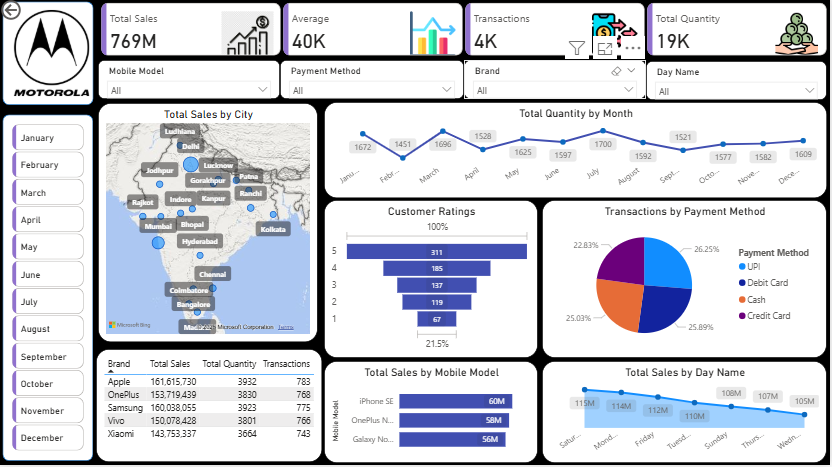

What the dashboard file says about the page in this screenshot:
{"tool":"powerbi","page":{"name":"Page 1","canvas":[1280,720],"ordinal":0},"visuals":[{"type":"shape","box":[0,0,153.7,173.1],"z":0},{"type":"image","box":[0,7.5,164.2,156.7],"z":1000},{"type":"shape","box":[0,173.3,153.3,546.7],"z":2000},{"type":"advancedSlicerVisual","fields":{"Values":["Sales_Data.Date.Variation.Date Hierarchy.Month"]},"box":[16.7,190,120,513.3],"z":3000},{"type":"cardVisual","fields":{"Data":["Sales_Data.Total Sales","Sales_Data.Average","Sales_Data.Transactions","Sales_Data.Total Quantity"]},"box":[153.8,0,1126.2,103.1],"z":4000},{"type":"map","fields":{"Category":["Sales_Data.City"],"Size":["Sales_Data.Total Sales"]},"box":[153.8,163.1,338.5,367.7],"z":5000},{"type":"lineChart","fields":{"Y":["Sales_Data.Total Quantity"],"Category":["Sales_Data.Date.Variation.Date Hierarchy.Month","Sales_Data.Date.Variation.Date Hierarchy.Day"]},"box":[501.5,161.5,773.8,147.7],"z":6000},{"type":"clusteredBarChart","fields":{"Category":["Sales_Data.Mobile Model"],"Y":["Sales_Data.Total Sales"]},"box":[501.5,560,329.2,156.9],"z":7000},{"type":"pieChart","fields":{"Category":["Sales_Data.Payment Method"],"Y":["Sales_Data.Transactions"]},"box":[836.9,312.3,438.5,243.1],"z":8000},{"type":"funnel","title":"Customer Ratings","fields":{"Category":["Sales_Data.Customer Ratings"],"Y":["CountNonNull(Sales_Data.Customer Ratings)"]},"box":[501.5,312.3,329.2,243.1],"z":8001},{"type":"areaChart","fields":{"Y":["Sales_Data.Total Sales"],"Category":["Sales_Data.Day Name"]},"box":[836.9,560,438.5,156.9],"z":8002},{"type":"tableEx","fields":{"Values":["Sales_Data.Brand","Sales_Data.Total Sales","Sales_Data.Total Quantity","Sales_Data.Transactions"]},"box":[150.8,541.5,347.7,173.8],"z":8003},{"type":"slicer","fields":{"Values":["Sales_Data.Mobile Model"]},"box":[153.8,96.9,280,60],"z":8004},{"type":"slicer","fields":{"Values":["Sales_Data.Payment Method"]},"box":[433.8,96.9,283.1,60],"z":8005},{"type":"slicer","fields":{"Values":["Sales_Data.Brand"]},"box":[716.9,96.9,280,60],"z":8006},{"type":"slicer","fields":{"Values":["Sales_Data.Day Name"]},"box":[996.9,98.5,278.5,60],"z":8007},{"type":"actionButton","box":[0,0,100,40],"z":8008}]}

Visuals, with their boxes in screenshot pixels (x1, y1, x2, y2), scaled from the page's 1280x720 canvas onto the 832x467 screenshot:
shape: bbox=[0, 0, 100, 112]
image: bbox=[0, 5, 107, 107]
shape: bbox=[0, 112, 100, 466]
advancedSlicerVisual - Sales_Data.Date.Variation.Date Hierarchy.Month: bbox=[11, 123, 89, 456]
cardVisual - Sales_Data.Total Sales x Sales_Data.Average: bbox=[100, 0, 831, 67]
map - Sales_Data.City x Sales_Data.Total Sales: bbox=[100, 106, 320, 344]
lineChart - Sales_Data.Total Quantity x Sales_Data.Date.Variation.Date Hierarchy.Month: bbox=[326, 105, 829, 201]
clusteredBarChart - Sales_Data.Mobile Model x Sales_Data.Total Sales: bbox=[326, 363, 540, 465]
pieChart - Sales_Data.Payment Method x Sales_Data.Transactions: bbox=[544, 203, 829, 360]
"Customer Ratings" funnel: bbox=[326, 203, 540, 360]
areaChart - Sales_Data.Total Sales x Sales_Data.Day Name: bbox=[544, 363, 829, 465]
tableEx - Sales_Data.Brand x Sales_Data.Total Sales: bbox=[98, 351, 324, 464]
slicer - Sales_Data.Mobile Model: bbox=[100, 63, 282, 102]
slicer - Sales_Data.Payment Method: bbox=[282, 63, 466, 102]
slicer - Sales_Data.Brand: bbox=[466, 63, 648, 102]
slicer - Sales_Data.Day Name: bbox=[648, 64, 829, 103]
actionButton: bbox=[0, 0, 65, 26]
